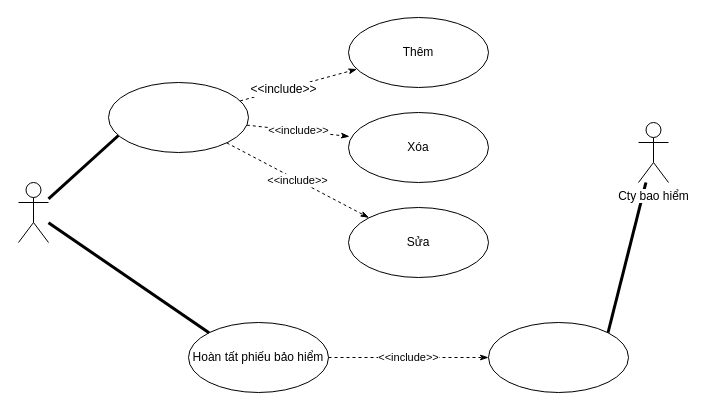
The diagram is 706 pixels wide and 410 high, and some of its shapes have lost their labels. Here are the shapes that lost their labels. From the top down, the centre of each, then its label:
At point 178,117: "Quản lý thông tin bệnh nhân".
At point 33,212: "Bác sĩ".
At point 558,357: "Thanh toán".
